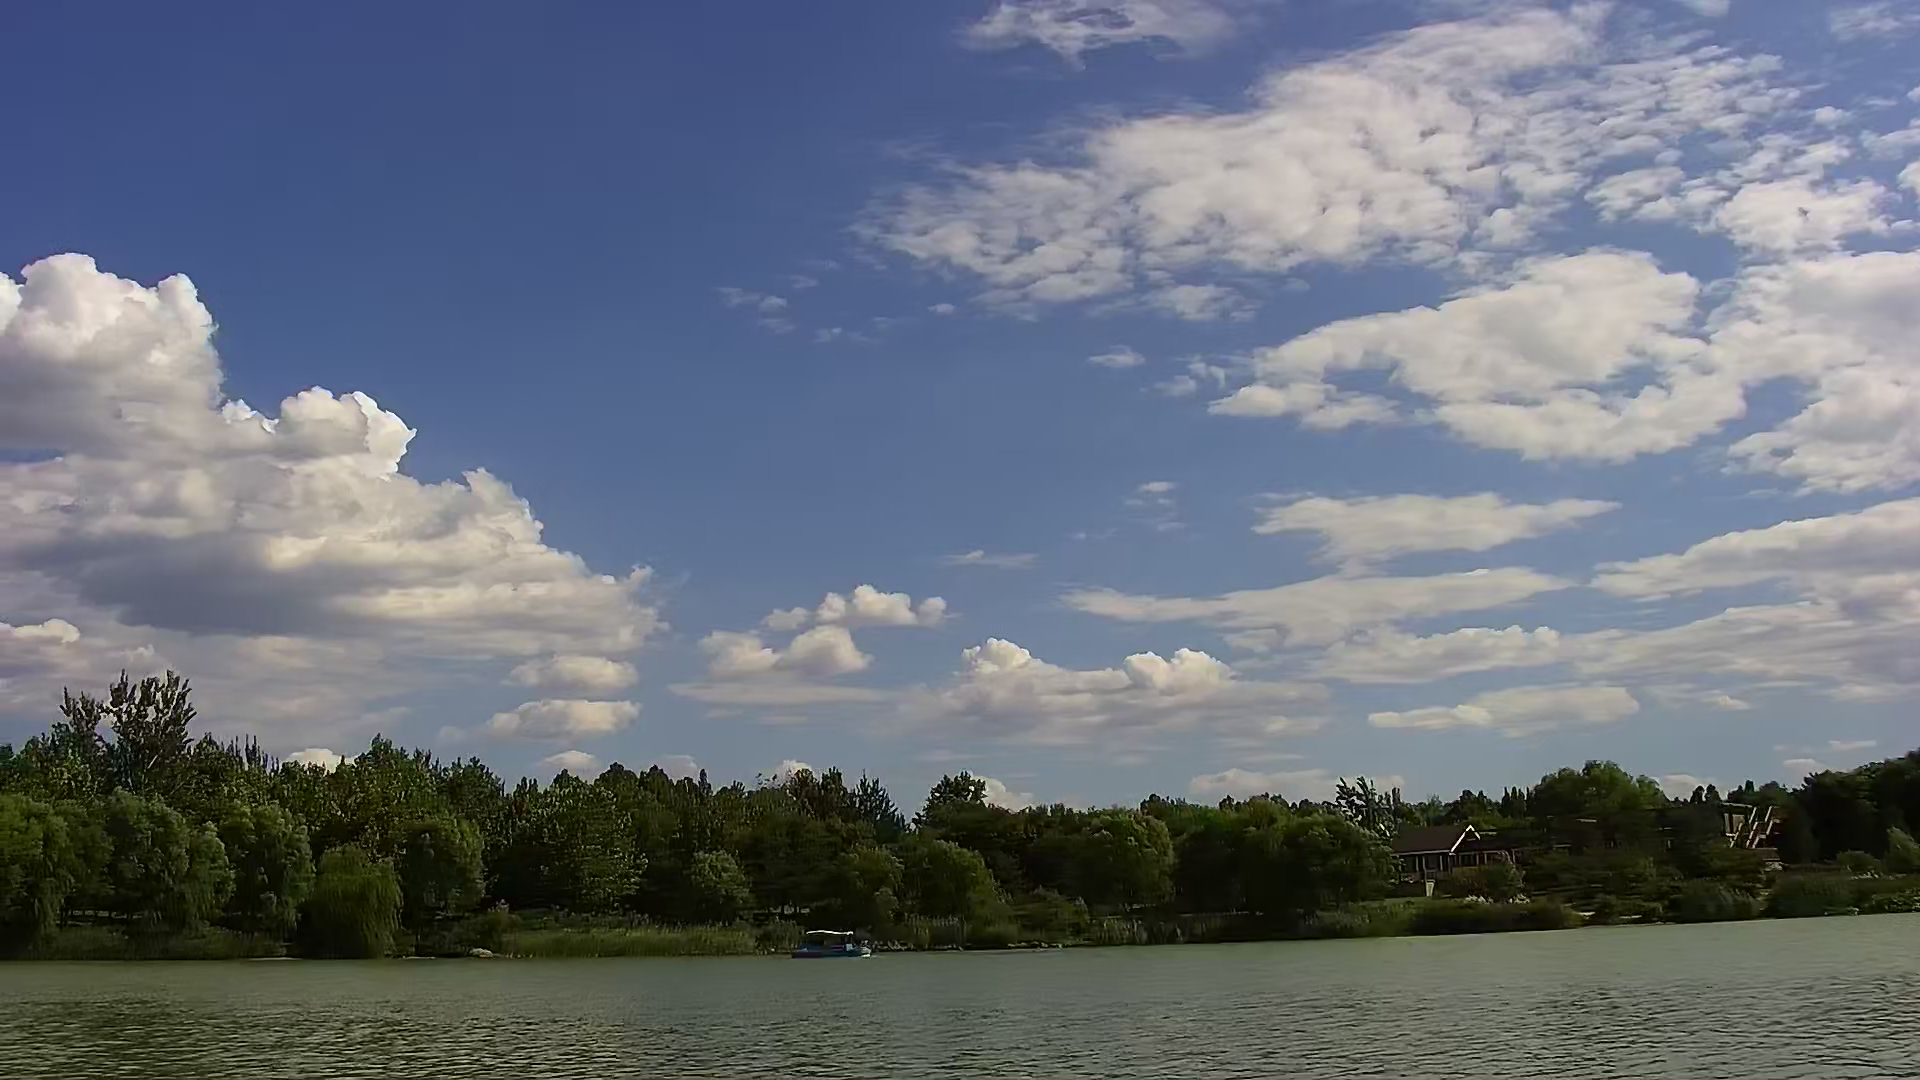boat: (773, 928, 887, 967)
